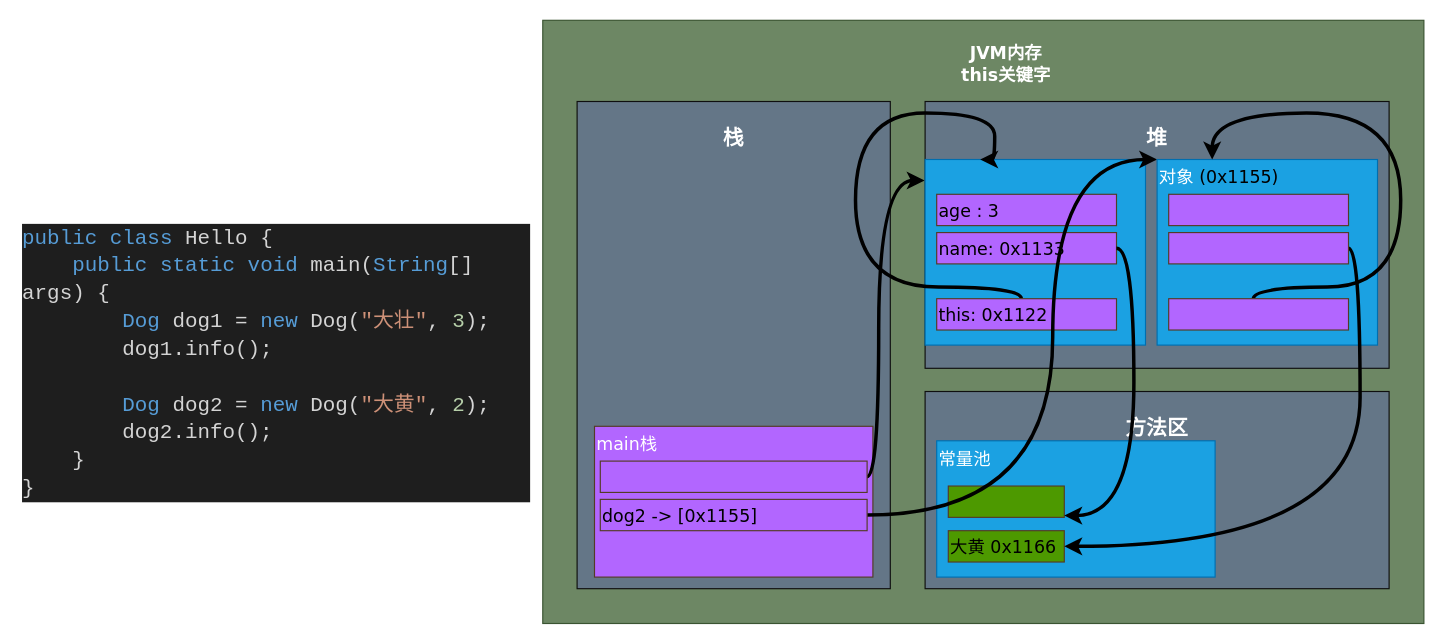
The diagram is 1444 pixels wide and 644 high, and some of its shapes have lost their labels. Here are the shapes that lost their labels. From the top down, the box of each, then its label:
(1168, 193, 1348, 226): age : 2
(924, 158, 1146, 345): 对象 (0x1122)
(1168, 231, 1348, 264): name: 0x1166
(1168, 298, 1348, 330): this: 0x1155
(599, 460, 867, 492): dog1 -> [0x1122]
(947, 485, 1064, 517): 大壮 0x1133
